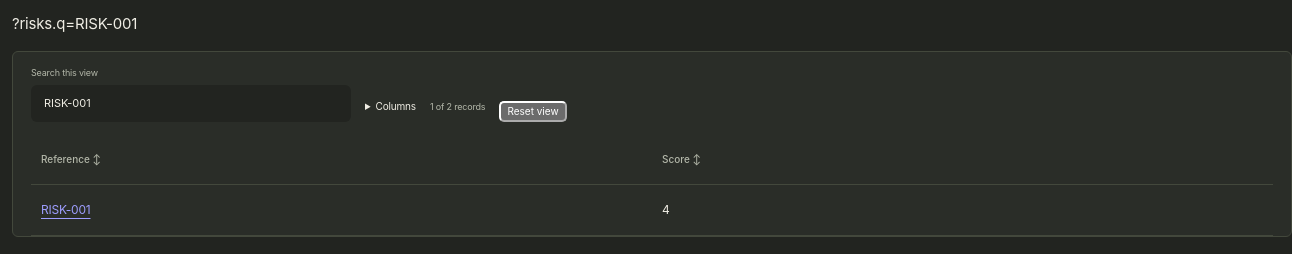
it: restores shared search and finds references rendered by components
Expected: the number of rows is 2, [31,136,1273,184]; [31,184,1273,236]
Expected: the link "RISK-001" is shown, [41,202,90,217]
Step 1. Replace the text in the search field with "RISK-002" → (191, 104), box [31,85,351,122]
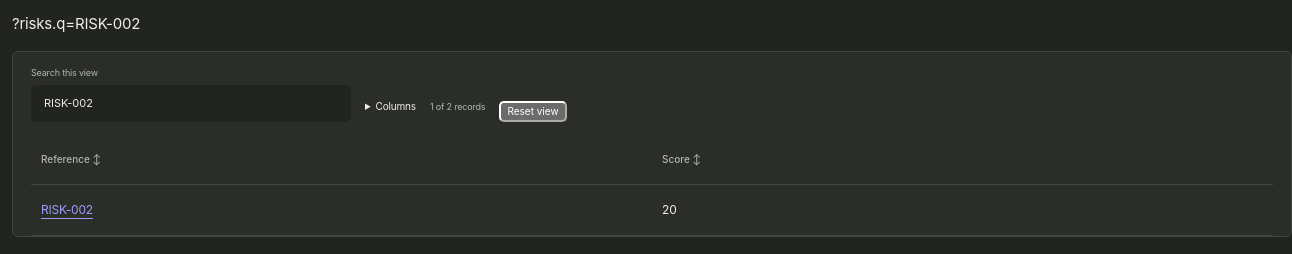
Result: the text named "URL" shows "risks.q=RISK-002" at [12,14,140,33]
Result: the link "RISK-002" is shown at [41,202,93,217]
